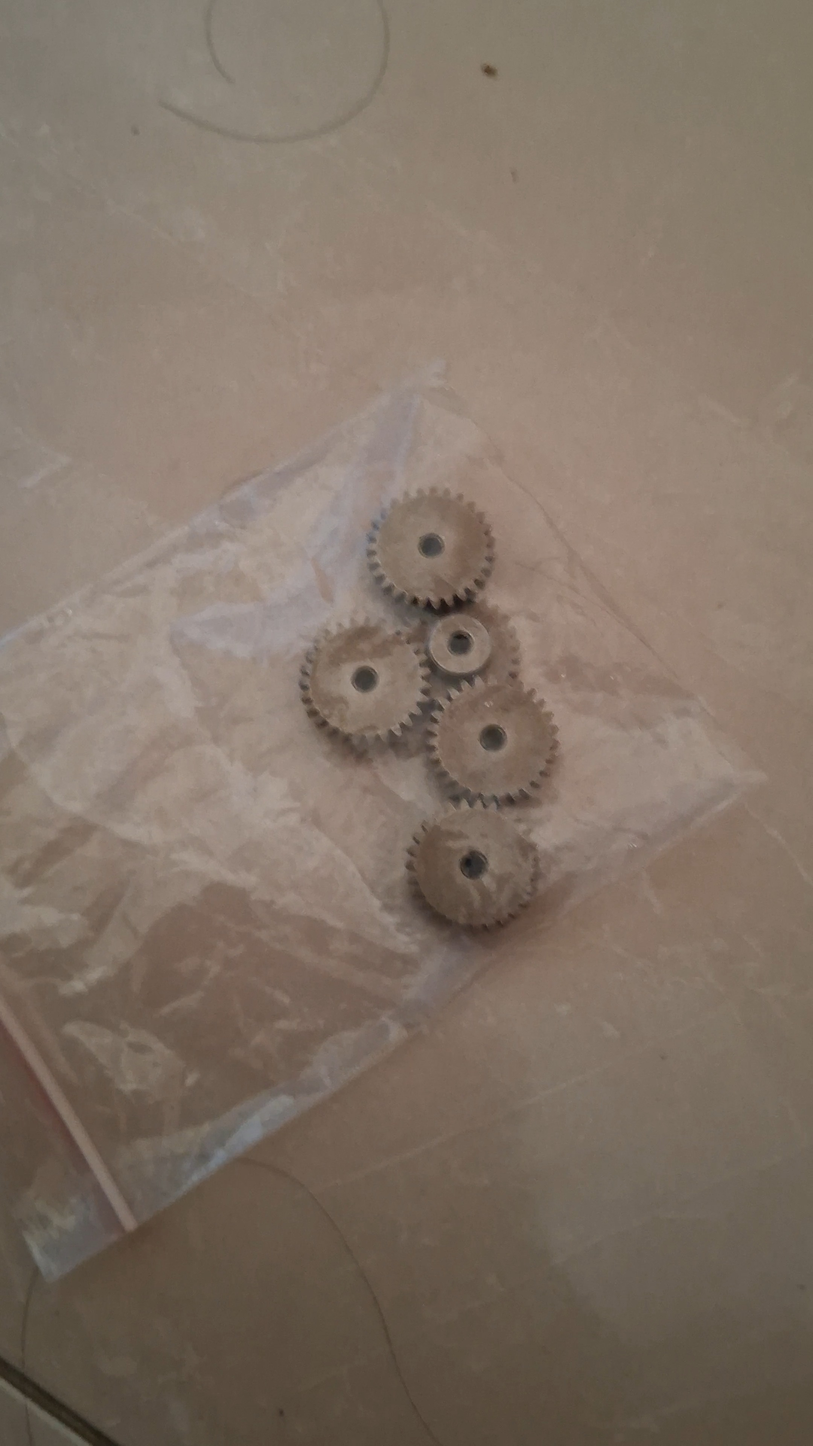spur gear: (300, 621, 429, 746), (407, 804, 538, 927), (429, 678, 557, 803), (367, 490, 494, 610), (426, 602, 519, 691)
